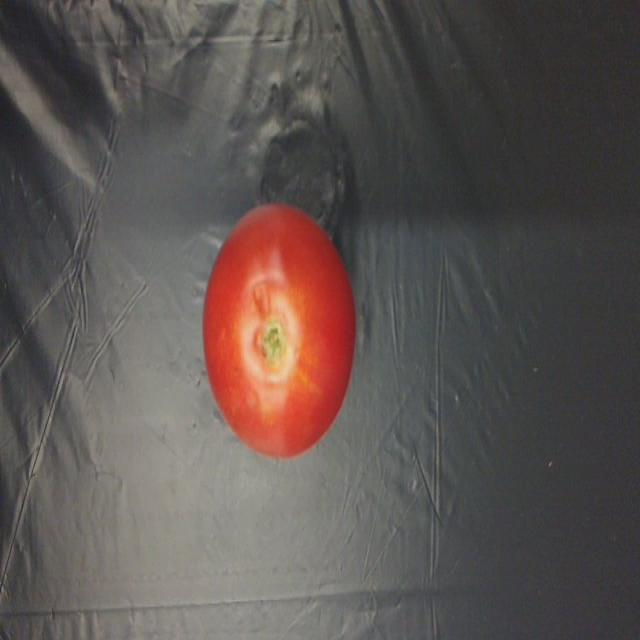kirmizi: (203, 196, 360, 471)
